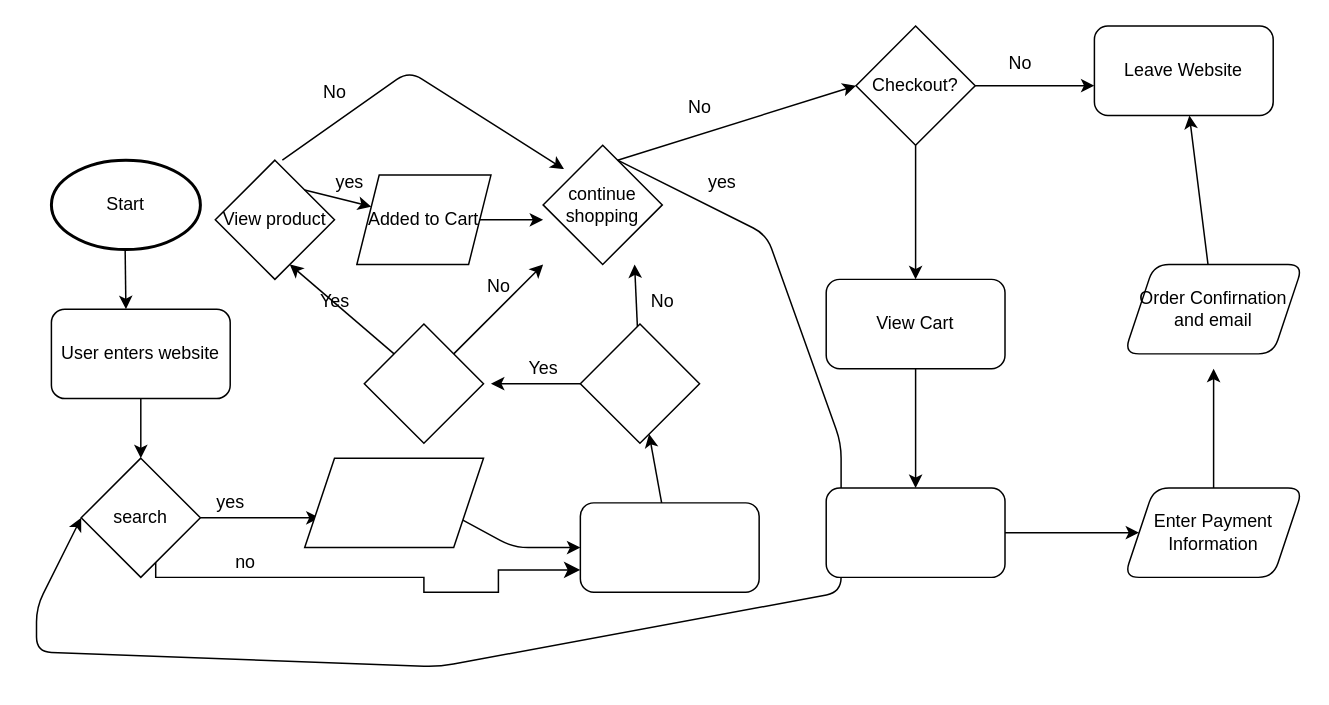
This 1329x705 diagram has some shape labels left out. Here are the shapes that lost their labels. From the top down, the box of each, then its label:
(363, 323, 484, 443): Confirm?
(579, 323, 700, 443): viewing specific
(303, 457, 484, 548): product input
(579, 501, 759, 592): Look over products
(825, 486, 1005, 577): Payment Screen
